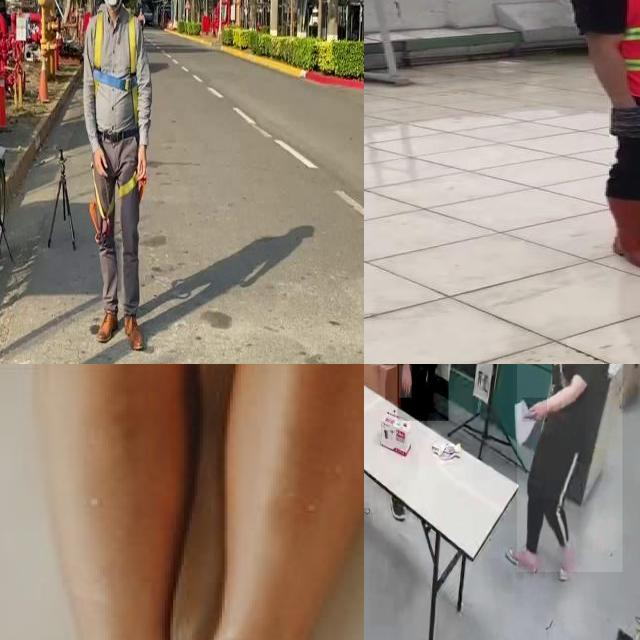Harness: (94, 11, 137, 124), (89, 174, 138, 244)
boots: (598, 188, 640, 273)
hand_noglove: (522, 398, 548, 422), (399, 364, 412, 398)
person: (517, 364, 623, 573), (570, 0, 640, 273), (397, 364, 448, 421)
shoes: (502, 537, 542, 583)
vest: (580, 0, 640, 99)
